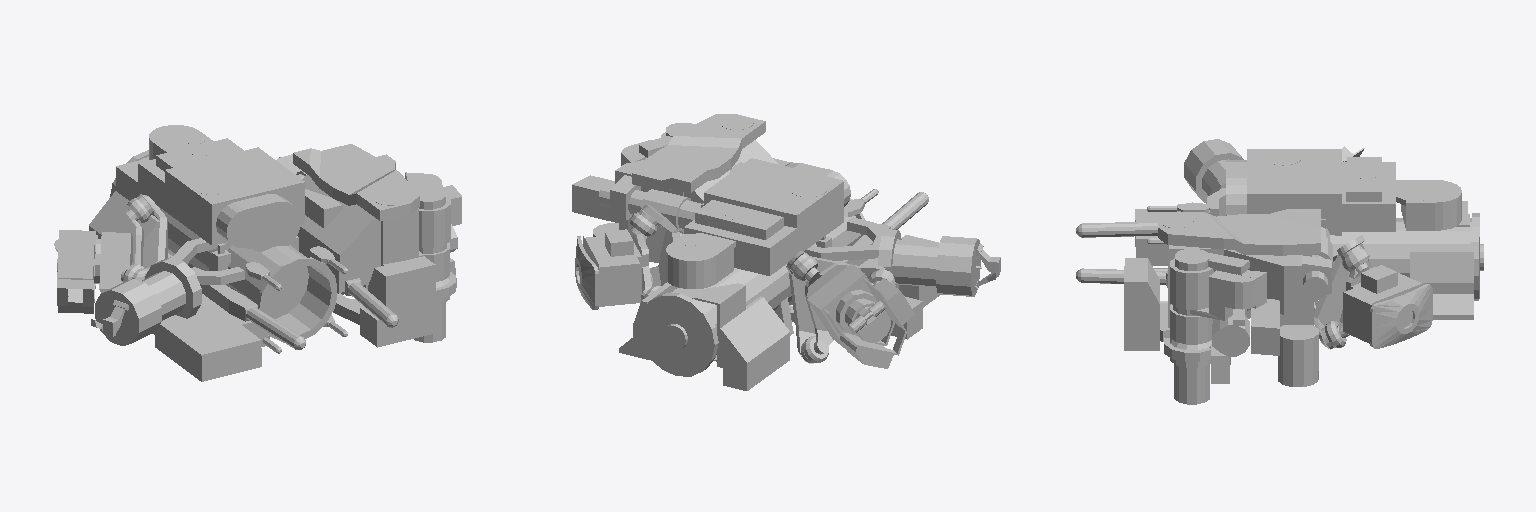
The model's file is armHead.obj.
The picture shows the model from 3 angles: view 1: azimuth 30°, elevation 25°; view 2: azimuth 150°, elevation 25°; view 3: azimuth 270°, elevation 25°; orthographic projection.
Visible parts, largest first — view 1: MAHLI_Mesh.351; view 2: MAHLI_Mesh.351; view 3: MAHLI_Mesh.351.
Part boxes in pixels (x1,y1,x2,y2): MAHLI_Mesh.351: (54,125,461,381); MAHLI_Mesh.351: (572,114,1000,390); MAHLI_Mesh.351: (1076,139,1483,404).
Bounding box in the file's own units: 0.6411 × 0.2436 × 0.5766.